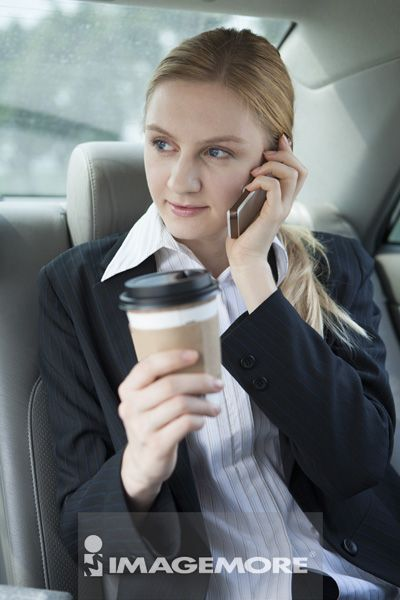talk: (140, 117, 304, 303)
